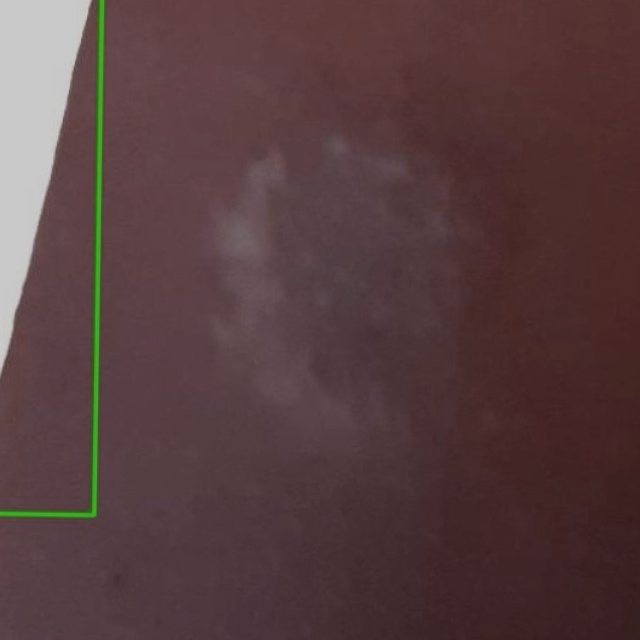Contact Dermatitis: (0, 0, 103, 516)
